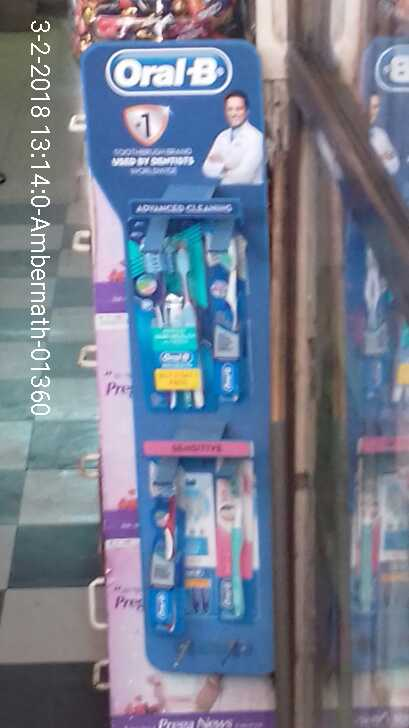oralb: (134, 232, 203, 413), (142, 452, 183, 633), (213, 453, 254, 626), (214, 225, 246, 407)
